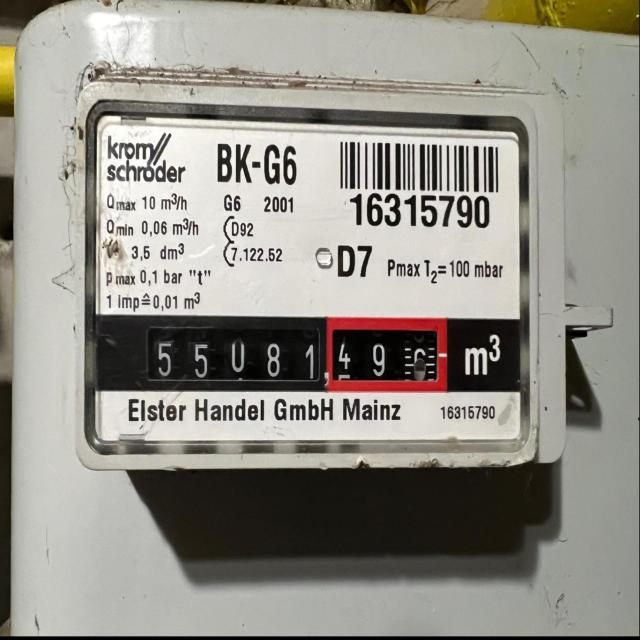gaz_meter: (86, 94, 527, 447)
indication: (149, 319, 448, 388)
